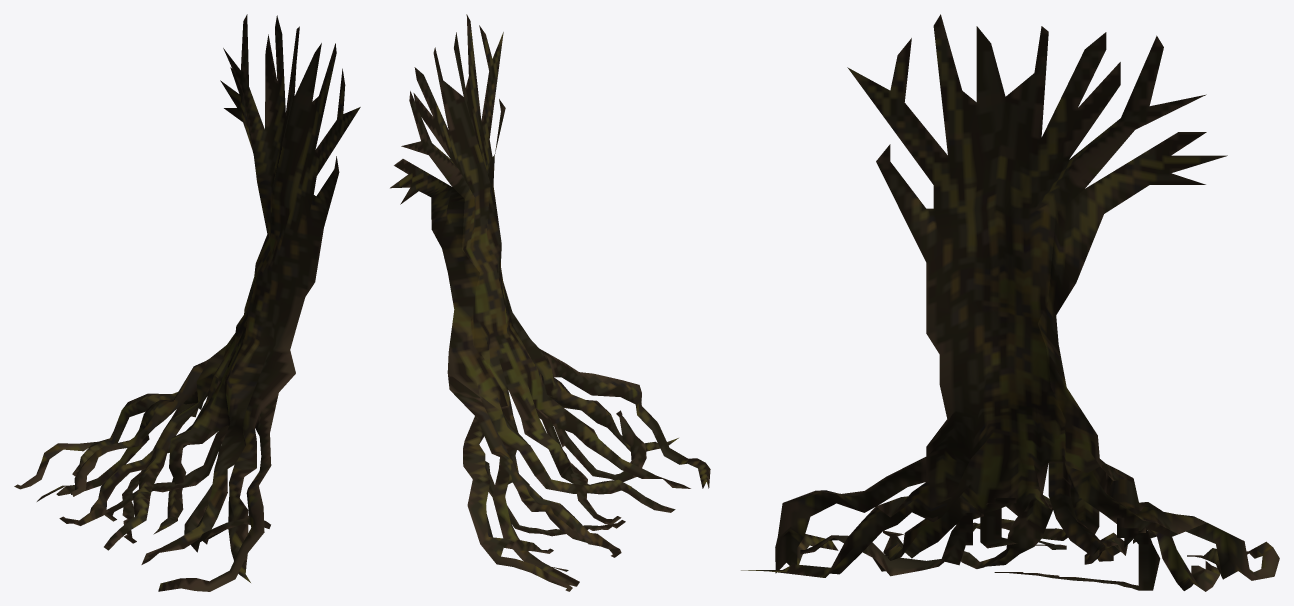
File: EnvFldMD_Tree_G_Mangrove_Stem_A.FBX
The picture shows the model from 3 angles, left to right: view 1: azimuth 30°, elevation 25°; view 2: azimuth 150°, elevation 25°; view 3: azimuth 270°, elevation 25°; orthographic projection. The views are drawn at different scales.
Visible parts, largest first — view 1: EnvFldMD_Tree_G_Mangrove_Stem_A; view 2: EnvFldMD_Tree_G_Mangrove_Stem_A; view 3: EnvFldMD_Tree_G_Mangrove_Stem_A.
Boxes of the visible parts, box(x1,y1,x2,y2) form: EnvFldMD_Tree_G_Mangrove_Stem_A: box(14, 14, 360, 591); EnvFldMD_Tree_G_Mangrove_Stem_A: box(390, 14, 710, 591); EnvFldMD_Tree_G_Mangrove_Stem_A: box(741, 14, 1279, 591).
Size of the model in its own units: 262 by 537 by 375.
1 material, 1 textured.
